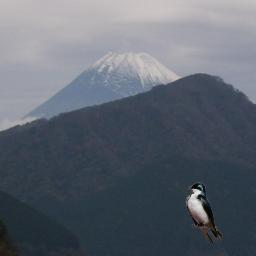Swallow: (185, 182, 223, 243)
